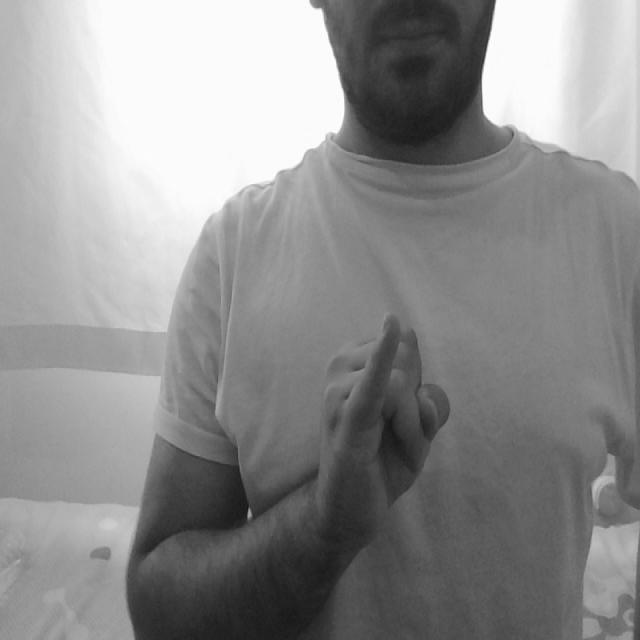kotu: (312, 293, 459, 486)
